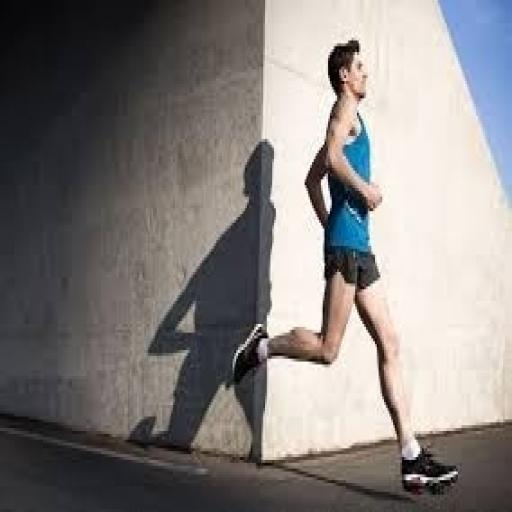running: (229, 34, 461, 498)
